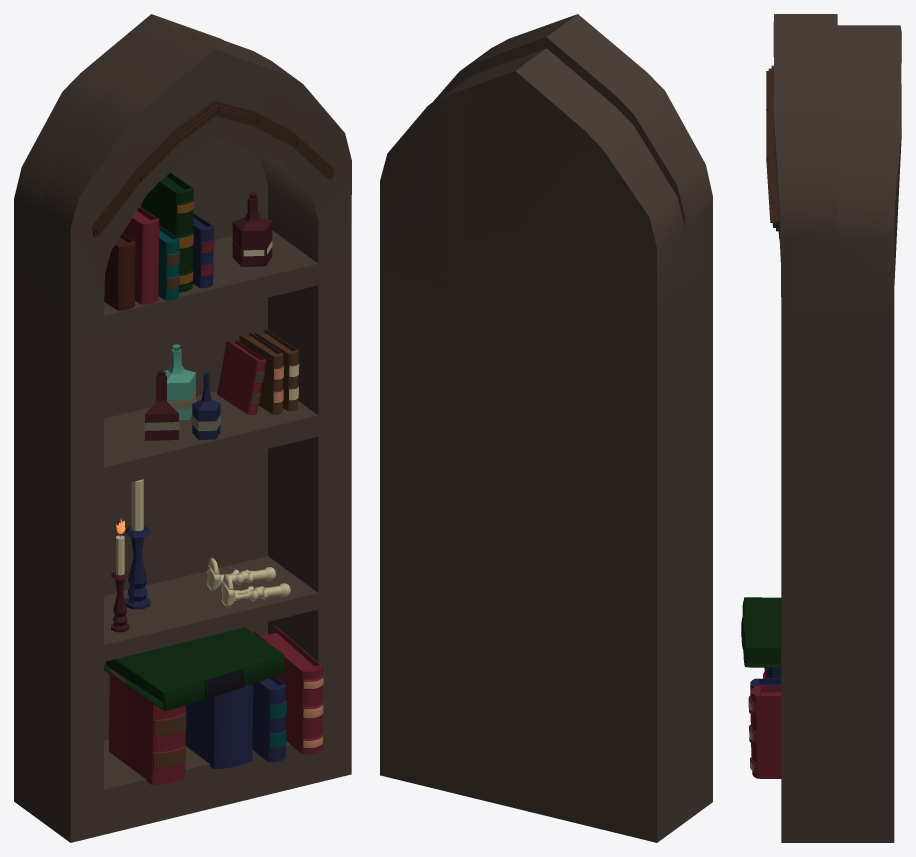
Rendered from Library 2 Full.fbx.
3 renders of one model, left to right at view 1: azimuth 30°, elevation 25°; view 2: azimuth 150°, elevation 25°; view 3: azimuth 270°, elevation 25°, orthographic.
Visible parts, largest first — view 1: Library 4.001, Libro .002, Libro .004, Libro .039, Libro .040, Libro .027, Libro .003, Libro .034, Libro .028, Potion 2.002, Libro .033, Candelabro piccolo.002 (+9 smaller); view 2: Library 4.001; view 3: Library 4.001, Libro .040, Libro .002, Libro .003.
Boxes of the visible parts, x1,y1,x2,y2 form: Library 4.001: (14,14,351,842); Libro .002: (104,627,284,711); Libro .004: (109,670,186,785); Libro .039: (185,684,253,768); Libro .040: (254,626,323,754); Libro .027: (141,172,193,292); Libro .003: (252,676,286,761); Libro .034: (217,340,266,415); Libro .028: (122,206,159,304); Potion 2.002: (232,192,272,266); Libro .033: (104,233,135,310); Candelabro piccolo.002: (125,479,150,609); Library 4.001: (380,14,712,842); Library 4.001: (766,14,901,842); Libro .040: (749,685,781,778); Libro .002: (741,597,781,667); Libro .003: (748,678,781,755).
Size of the model in its own units: 200 by 519 by 99.18.
